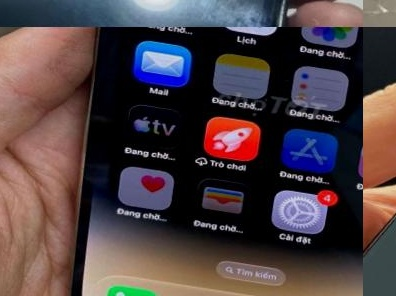physical_damage: (363, 0, 396, 27)
scratch: (0, 0, 290, 27)
